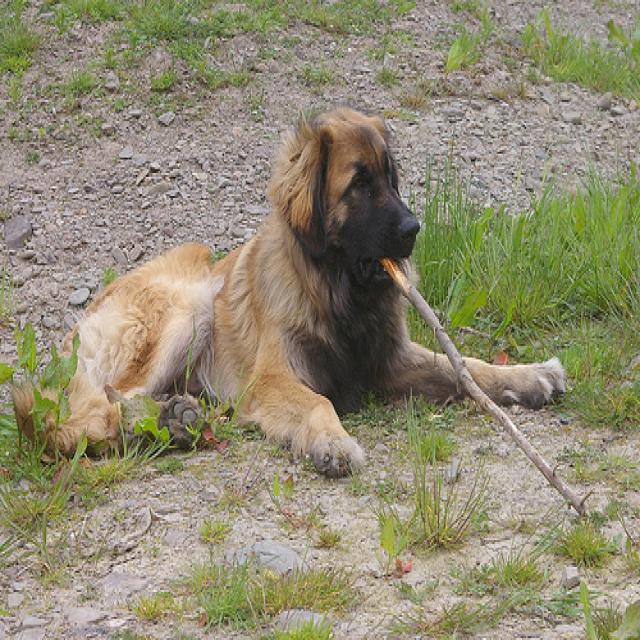dog: (286, 104, 418, 288)
